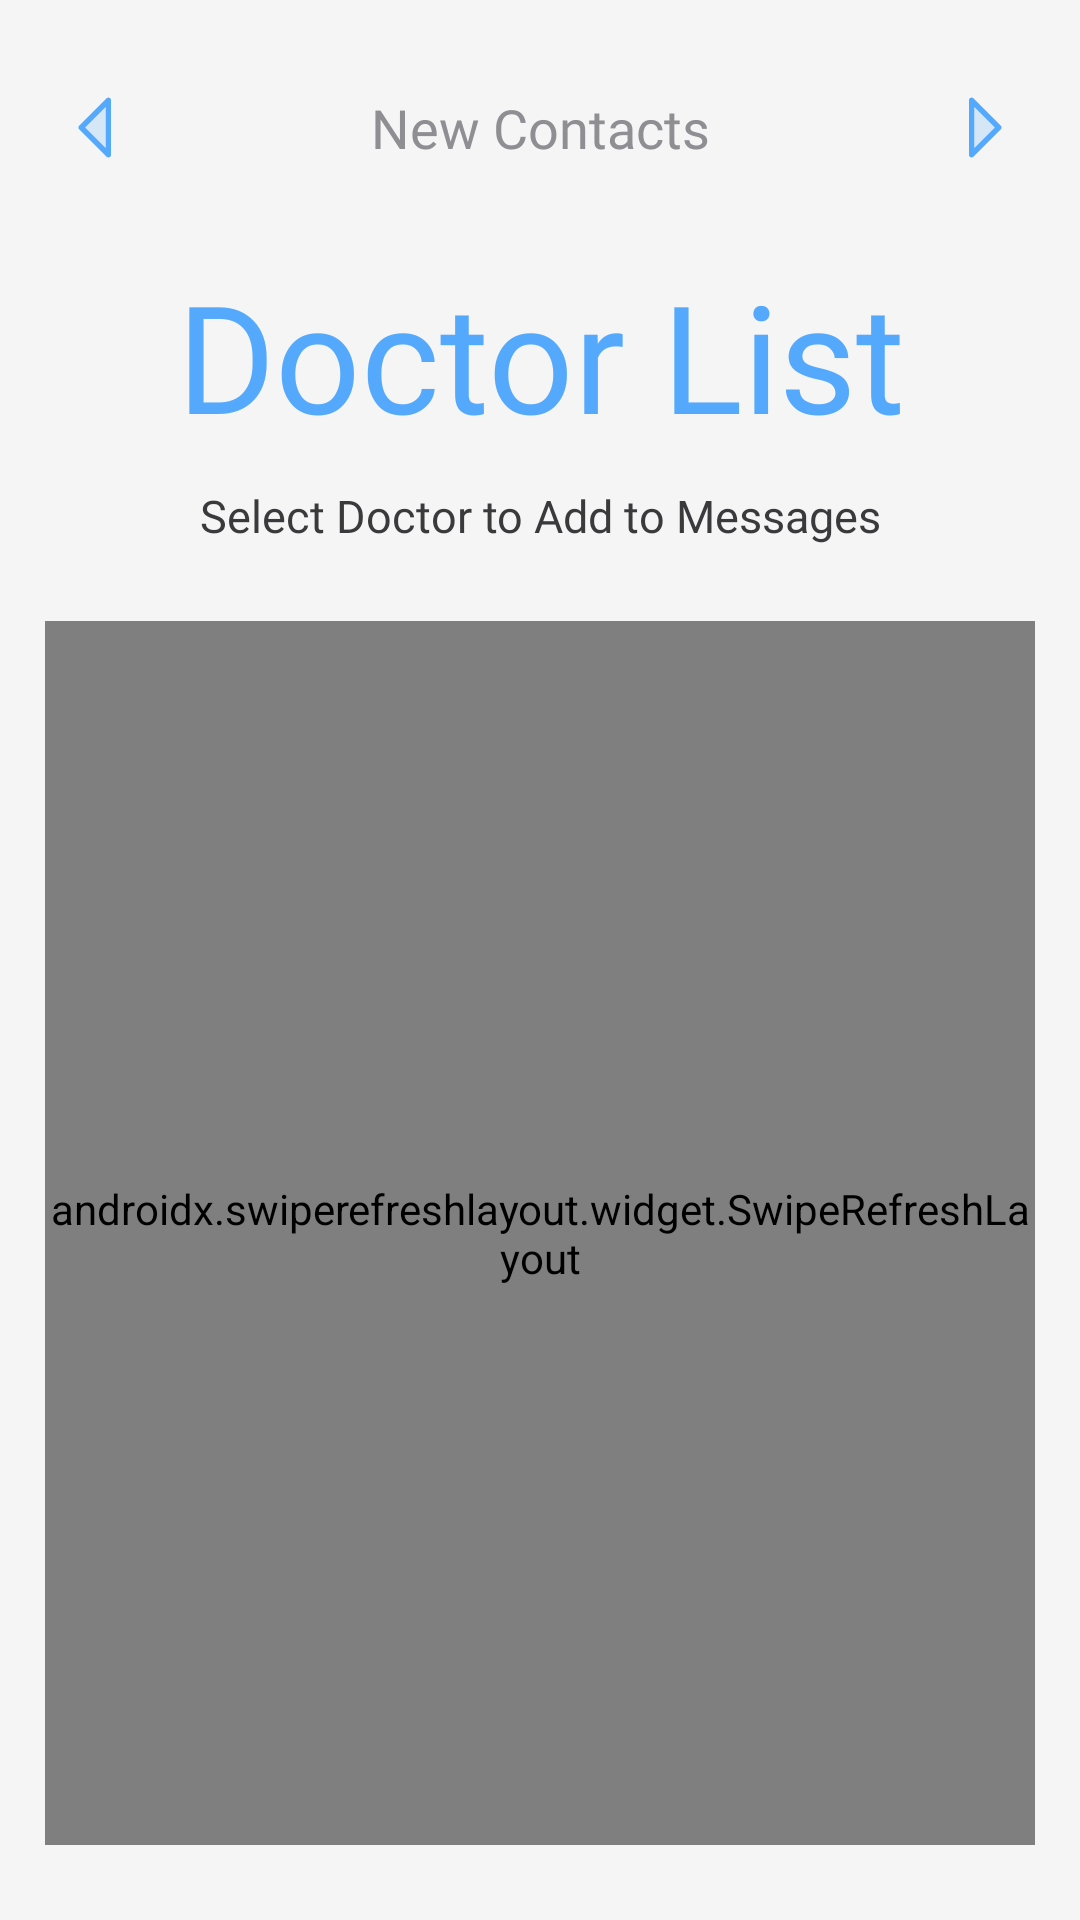

Icon bounding boxes for this 1080px×1920px phone screenshot, format (x1, y1, x2, y2):
arrow left: (78, 97, 111, 158)
arrow right: (969, 97, 1002, 158)
